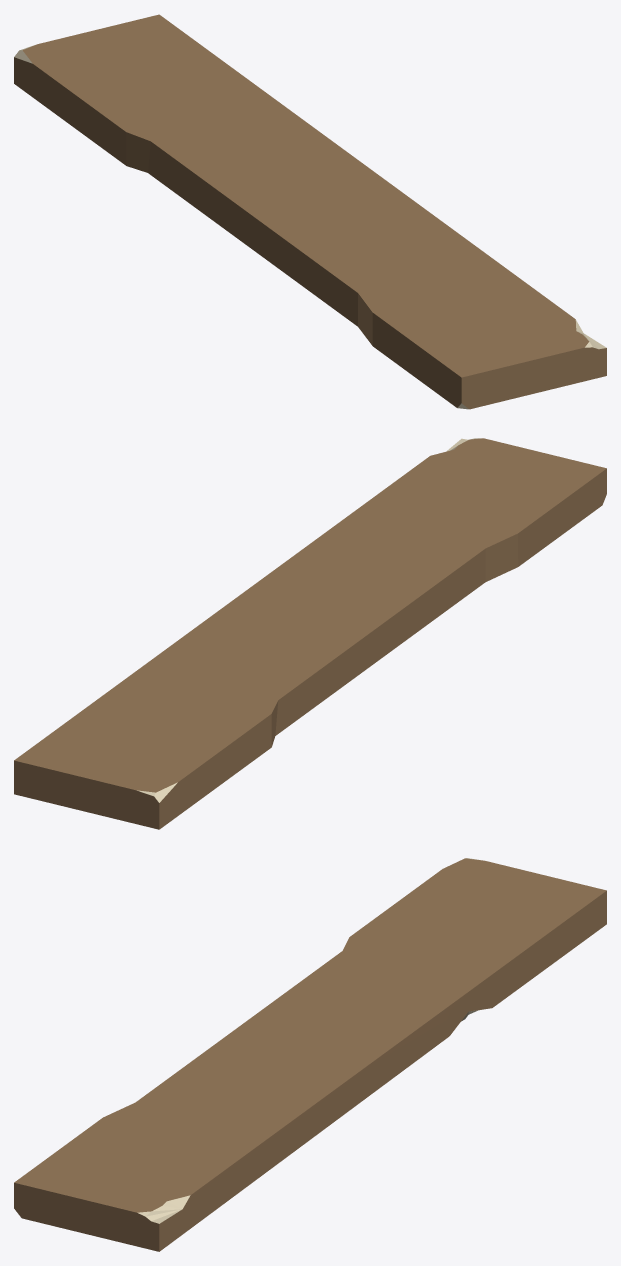
Rendered from Plank4.fbx.
The picture shows the model from 3 angles, top to bottom: view 1: azimuth 30°, elevation 25°; view 2: azimuth 150°, elevation 25°; view 3: azimuth 330°, elevation 25°; orthographic projection.
Parts seen in each view (by area): view 1: 4; view 2: 4; view 3: 4.
Part boxes in pixels (x1=…): 4: x1=14, y1=14, x2=606, y2=409; 4: x1=14, y1=438, x2=606, y2=829; 4: x1=14, y1=858, x2=606, y2=1251.
Size of the model in its own units: 45.14 by 10 by 240.
